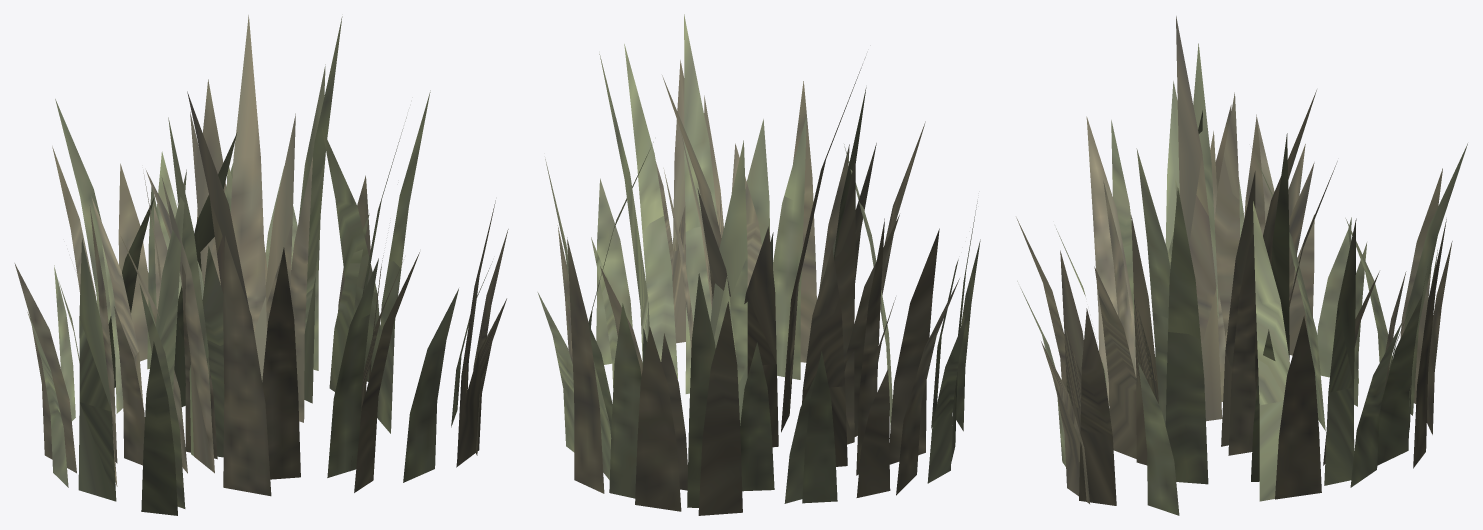
File: grass_tuft_tall_01.glb
The picture shows the model from 3 angles, left to right: view 1: azimuth 30°, elevation 25°; view 2: azimuth 150°, elevation 25°; view 3: azimuth 270°, elevation 25°; orthographic projection. The views are drawn at different scales.
Parts seen in each view (by area): view 1: grass_tuft_tall_01; view 2: grass_tuft_tall_01; view 3: grass_tuft_tall_01.
Part boxes in pixels (<box>): grass_tuft_tall_01: <box>14,15,508,515</box>; grass_tuft_tall_01: <box>537,14,980,515</box>; grass_tuft_tall_01: <box>1016,16,1467,515</box>.
Bounding box in the file's own units: 0.3428 × 0.3025 × 0.3323.
1 material, 1 textured.
